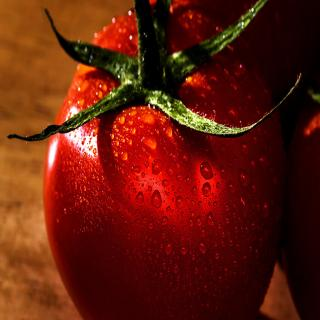tomato: (19, 32, 302, 316)
